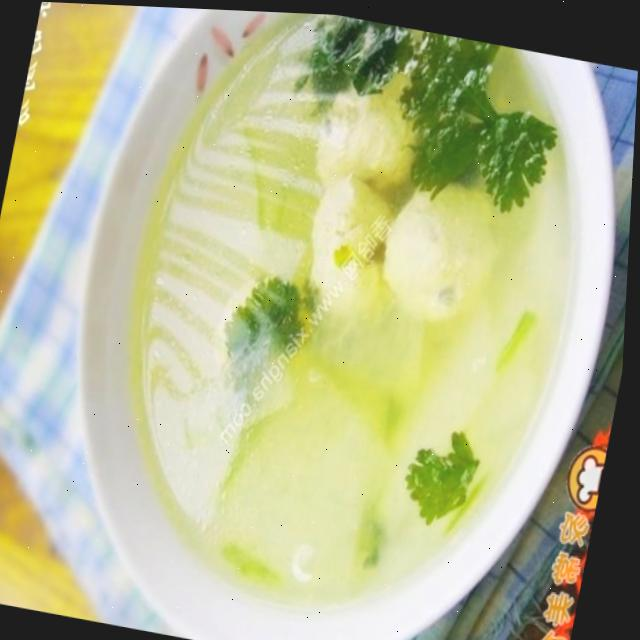汤锅炖物: (1, 1, 640, 640)
